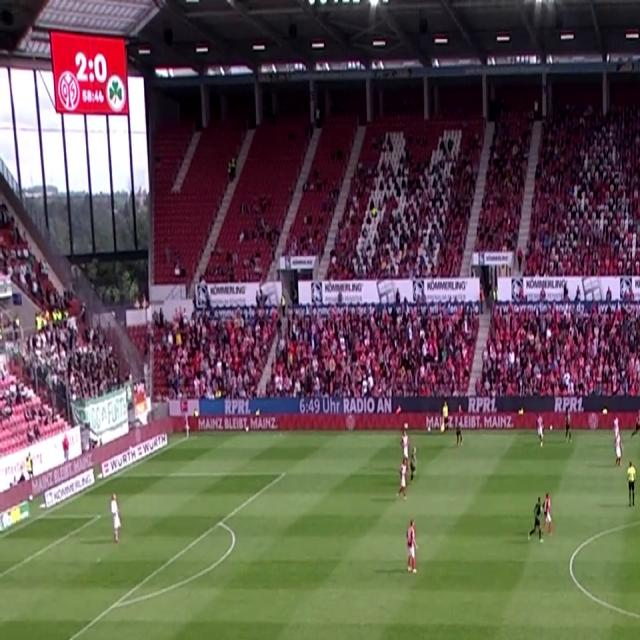goalkeeper: (105, 488, 129, 550)
referee: (623, 458, 640, 511)
soccer-player: (401, 515, 428, 580), (398, 426, 419, 492), (397, 448, 418, 504), (526, 492, 543, 550), (612, 417, 629, 466), (448, 401, 464, 450), (535, 409, 551, 451)
